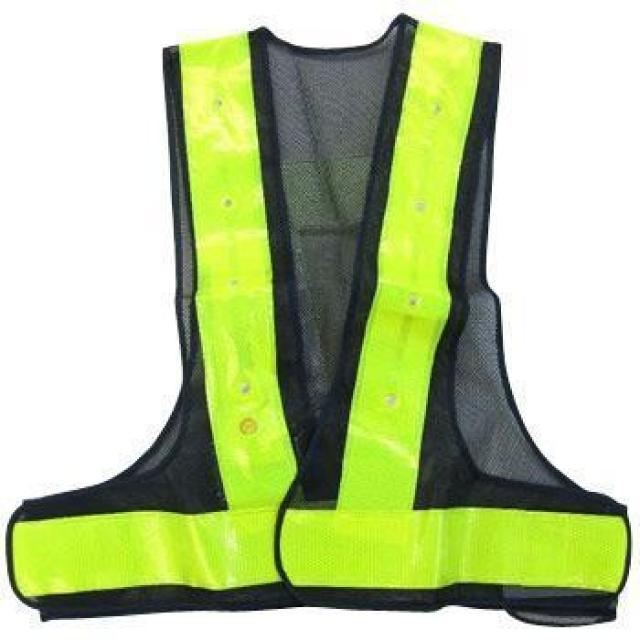Vest: (7, 26, 631, 627)
